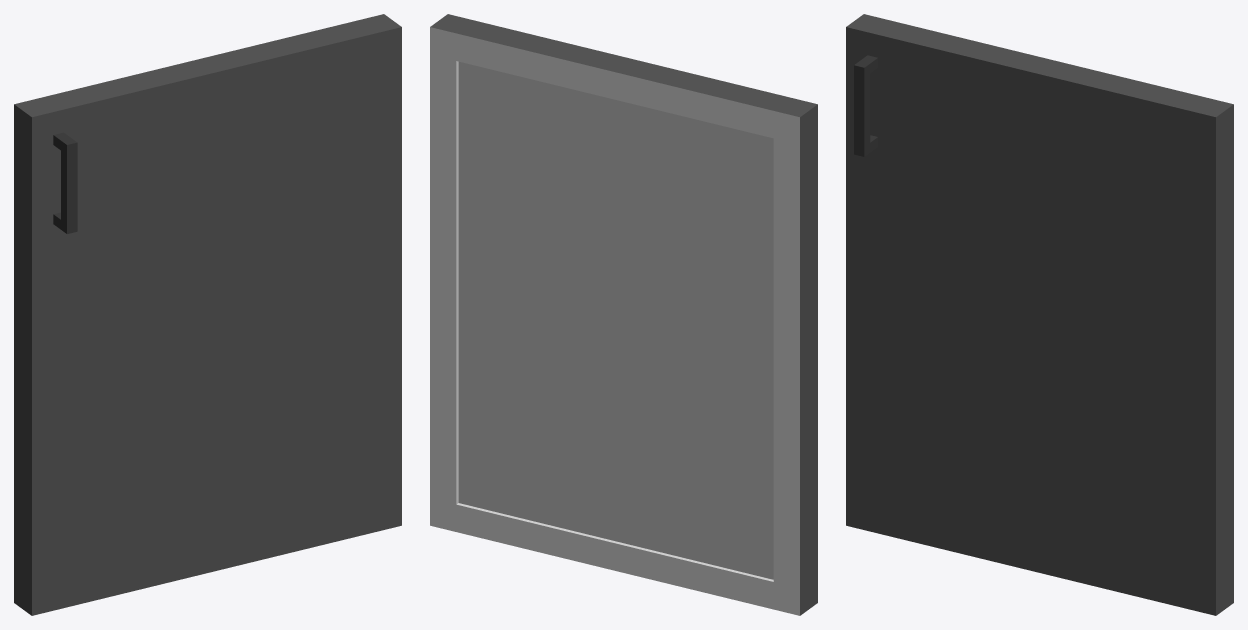
File: Refrigerator1_C2_03.fbx
3 renders of one model, left to right at view 1: azimuth 30°, elevation 25°; view 2: azimuth 150°, elevation 25°; view 3: azimuth 330°, elevation 25°, orthographic.
Parts seen in each view (by area): view 1: Refrigerator1_C2_03; view 2: Refrigerator1_C2_03; view 3: Refrigerator1_C2_03.
Part boxes in pixels (box(x1,y1,x2,y2)): Refrigerator1_C2_03: box(14, 14, 401, 615); Refrigerator1_C2_03: box(430, 14, 817, 615); Refrigerator1_C2_03: box(846, 14, 1233, 615).
Size of the model in its own units: 60 by 77.27 by 8.84.
